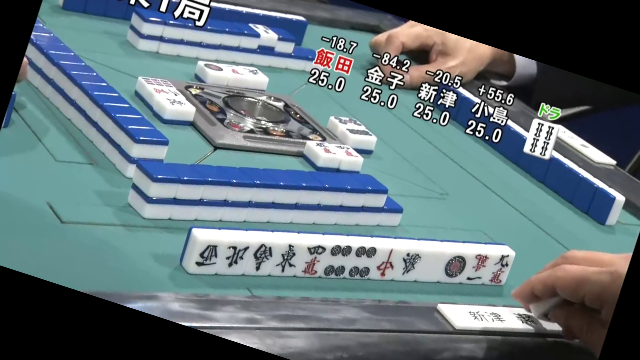Tehai: (178, 217, 518, 294)
